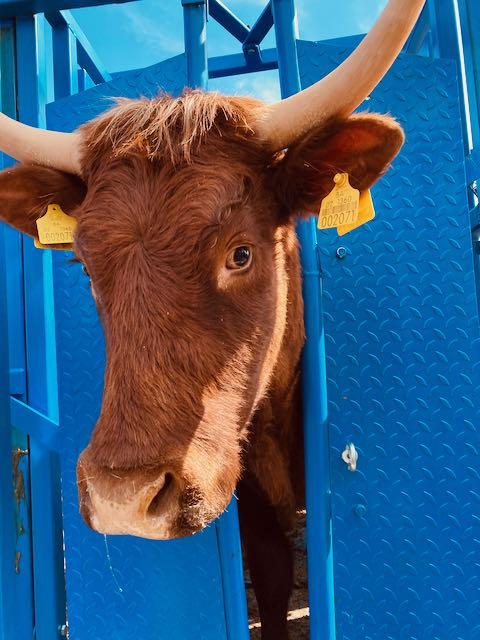muzzles: (60, 462, 223, 550)
